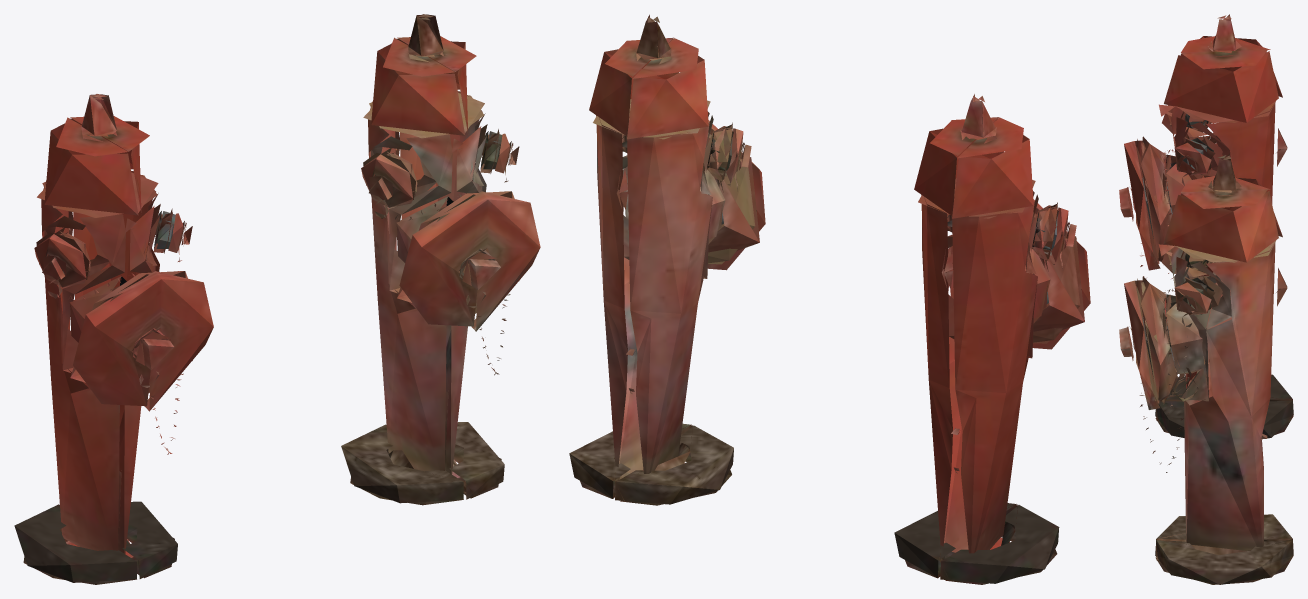
The model's file is fire_hydrant.glb.
3 views of the same model, side by side, from view 1: azimuth 30°, elevation 25°; view 2: azimuth 150°, elevation 25°; view 3: azimuth 270°, elevation 25° (orthographic). The views are drawn at different scales.
Parts seen in each view (by area): view 1: fire_hydrant_aged, fire_hydrant, fire_hydrant_cap_01, fire_hydrant_cap_01_aged, fire_hydrant_cap_03, fire_hydrant_cap_03_aged; view 2: fire_hydrant_aged, fire_hydrant, fire_hydrant_cap_01_aged, fire_hydrant_cap_01, fire_hydrant_cap_03, fire_hydrant_cap_03_aged; view 3: fire_hydrant_aged, fire_hydrant, fire_hydrant_cap_01_aged, fire_hydrant_cap_01, fire_hydrant_cap_02_aged, fire_hydrant_cap_02, fire_hydrant_chain_aged.
Part boxes in pixels (x1,y1,x2,y2): fire_hydrant_aged: (341,14,519,505); fire_hydrant: (14,94,192,584); fire_hydrant_cap_01: (73,271,213,411); fire_hydrant_cap_01_aged: (399,191,540,331); fire_hydrant_cap_03: (34,232,89,287); fire_hydrant_cap_03_aged: (361,153,415,207); fire_hydrant_aged: (569,14,759,505); fire_hydrant: (894,94,1084,584); fire_hydrant_cap_01_aged: (707,120,765,270); fire_hydrant_cap_01: (1032,199,1090,349); fire_hydrant_cap_03: (1045,202,1076,262); fire_hydrant_cap_03_aged: (720,122,751,182); fire_hydrant_aged: (1140,154,1293,584); fire_hydrant: (1140,14,1293,438); fire_hydrant_cap_01_aged: (1119,278,1160,409); fire_hydrant_cap_01: (1119,139,1160,270); fire_hydrant_cap_02_aged: (1174,280,1211,314); fire_hydrant_cap_02: (1174,140,1211,175); fire_hydrant_chain_aged: (1131,289,1198,472).
Size of the model in its own units: 0.8728 by 0.8007 by 0.3173.
2 materials, 2 textured.
